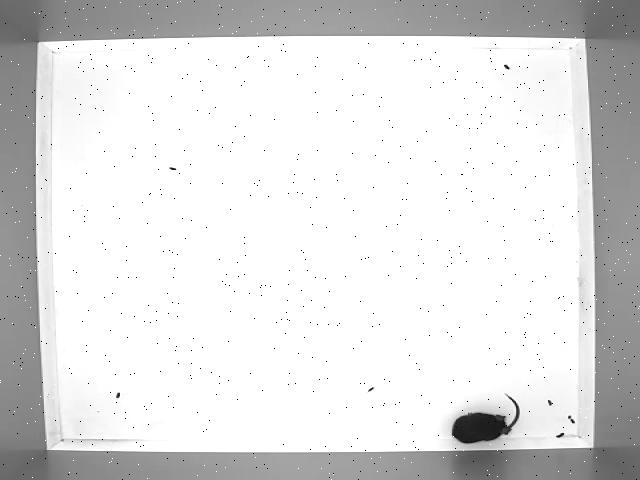Tikus: (445, 392, 524, 445)
